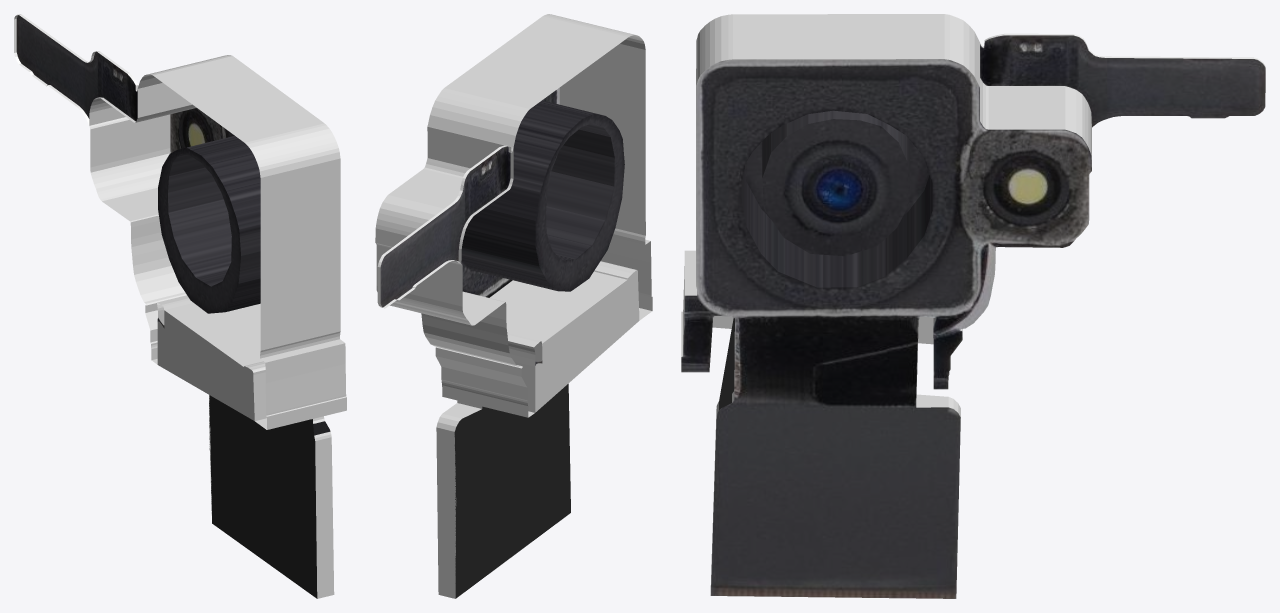
The model's file is backCamera.glb.
3 renders of one model, left to right at view 1: azimuth 30°, elevation 25°; view 2: azimuth 150°, elevation 25°; view 3: azimuth 270°, elevation 25°, orthographic. The views are drawn at different scales.
Visible parts, largest first — view 1: back camera; view 2: back camera; view 3: back camera.
Part boxes in pixels (box(x1,y1,x2,y2)): back camera: box(14, 14, 346, 598); back camera: box(375, 14, 652, 598); back camera: box(681, 14, 1265, 598).
Bounding box in the file's own units: 0.1317 × 0.7354 × 0.7213.
Materials: 4 (1 with a texture image).
